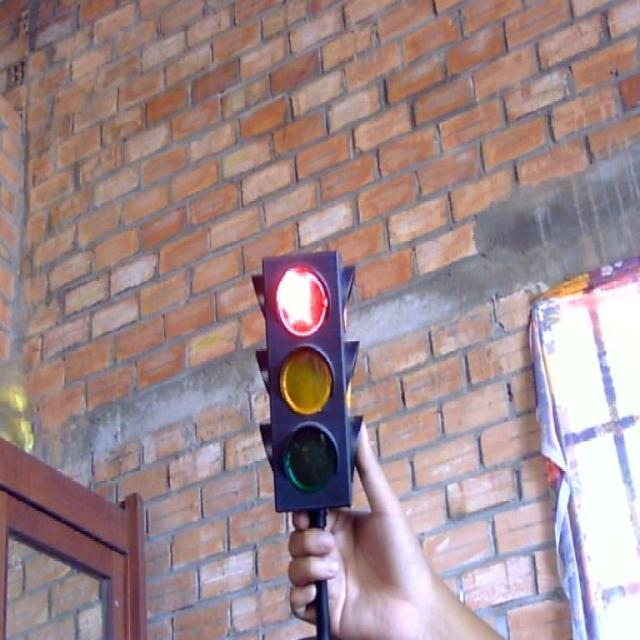red light: (266, 258, 338, 342)
